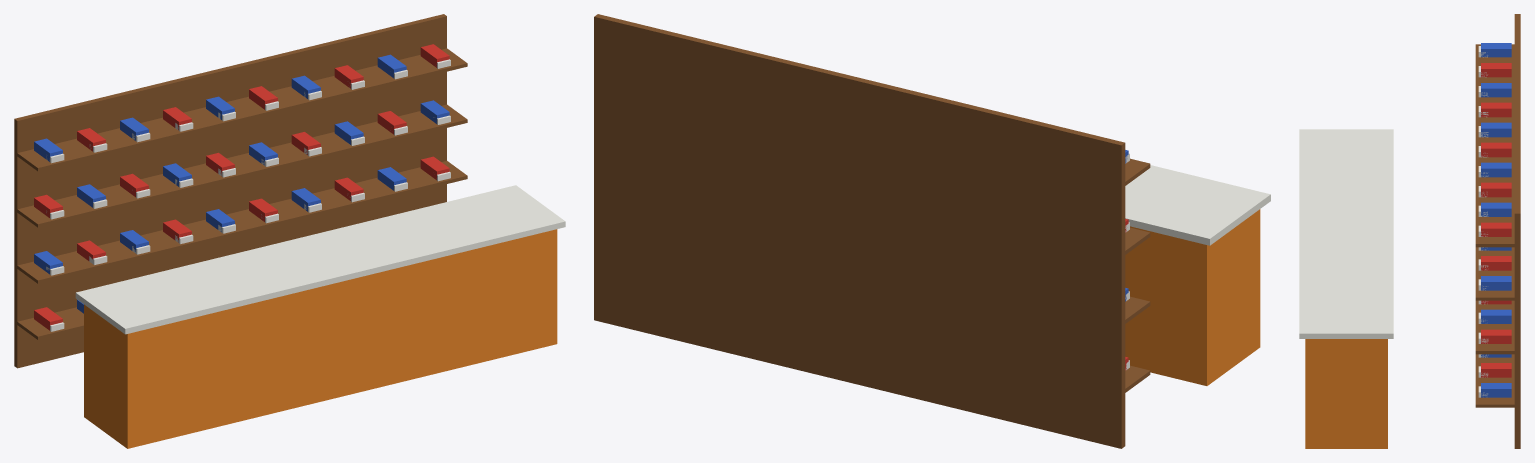
The model's file is shoe_counter.glb.
The picture shows the model from 3 angles, left to right: view 1: azimuth 30°, elevation 25°; view 2: azimuth 150°, elevation 25°; view 3: azimuth 270°, elevation 25°; orthographic projection. The views are drawn at different scales.
Visible parts, largest first — view 1: counter_counter_orange, shelf_back_shelf_wood, top_counter_top, shelf_shelf_wood, shoe_shoe_red, shoe_shoe_blue, toe_shoe_white; view 2: shelf_back_shelf_wood, counter_counter_orange, top_counter_top, shelf_shelf_wood; view 3: top_counter_top, counter_counter_orange, shelf_shelf_wood, shoe_shoe_blue, shoe_shoe_red, shelf_back_shelf_wood, toe_shoe_white.
Boxes of the visible parts, bbox=[...] form: counter_counter_orange: bbox=[84, 229, 557, 448]; shelf_back_shelf_wood: bbox=[14, 14, 446, 368]; top_counter_top: bbox=[75, 185, 565, 334]; shelf_shelf_wood: bbox=[16, 48, 467, 339]; shoe_shoe_red: bbox=[34, 44, 449, 330]; shoe_shoe_blue: bbox=[34, 54, 449, 313]; toe_shoe_white: bbox=[46, 59, 450, 331]; shelf_back_shelf_wood: bbox=[594, 14, 1125, 448]; counter_counter_orange: bbox=[1125, 209, 1260, 385]; top_counter_top: bbox=[1125, 165, 1270, 245]; shelf_shelf_wood: bbox=[1123, 158, 1150, 393]; top_counter_top: bbox=[1299, 129, 1393, 338]; counter_counter_orange: bbox=[1305, 339, 1387, 448]; shelf_shelf_wood: bbox=[1475, 44, 1516, 407]; shoe_shoe_blue: bbox=[1481, 43, 1511, 397]; shoe_shoe_red: bbox=[1481, 63, 1511, 377]; shelf_back_shelf_wood: bbox=[1514, 14, 1520, 448]; toe_shoe_white: bbox=[1478, 46, 1488, 397].
Bounding box in the file's own units: 4.1 × 2.2 × 1.88.
